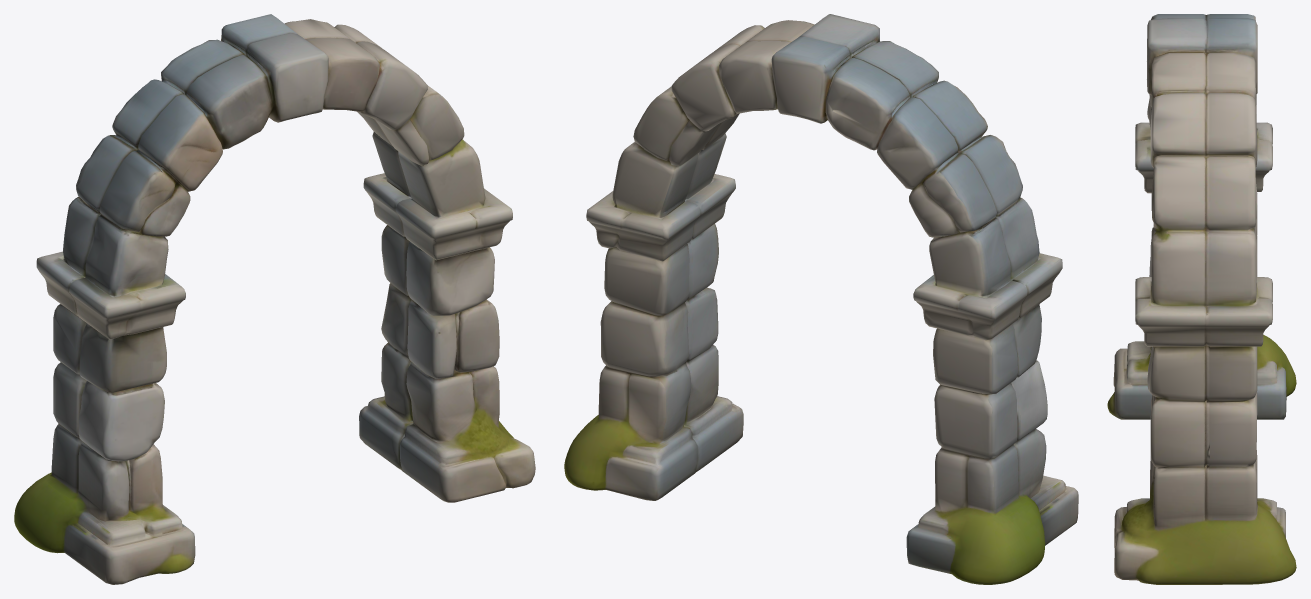
The model's file is Outdoor__a_stone_arch_da4a7c00_v2.cluster.glb.
3 views of the same model, side by side, from view 1: azimuth 30°, elevation 25°; view 2: azimuth 150°, elevation 25°; view 3: azimuth 270°, elevation 25° (orthographic). The views are drawn at different scales.
Visible parts, largest first — view 1: material; view 2: material; view 3: material.
Boxes of the visible parts, <box> form: material: <box>14,14,535,584</box>; material: <box>564,14,1078,584</box>; material: <box>1107,14,1296,584</box>.
Size of the model in its own units: 1.9 by 1.85 by 0.7037.
Materials: 1 (1 with a texture image).
